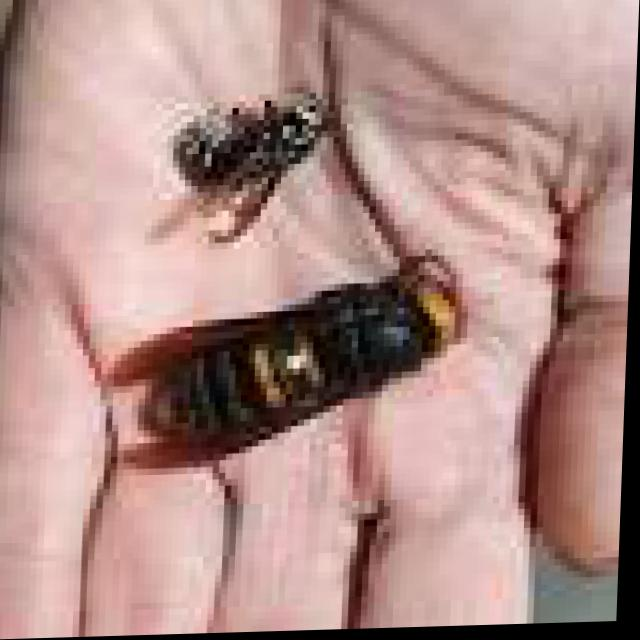Vespa Velutina: (99, 249, 486, 499)
